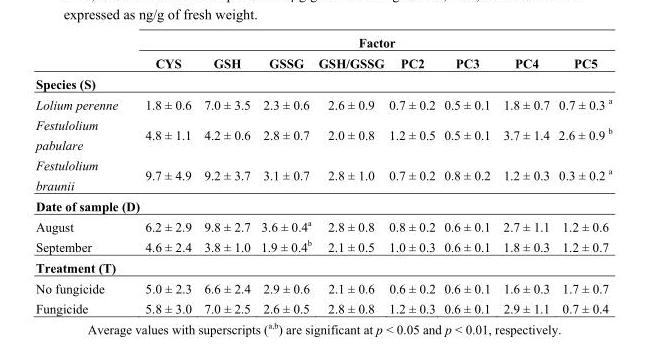table: (34, 34, 611, 315)
table column: (34, 34, 130, 315), (314, 34, 386, 315), (130, 34, 197, 315), (255, 34, 314, 315), (197, 34, 255, 315), (553, 34, 611, 315), (439, 34, 496, 315), (496, 34, 553, 315), (386, 34, 439, 315)
table column header: (34, 34, 611, 73)
table projected row header: (34, 256, 611, 277), (34, 73, 611, 93), (34, 195, 611, 215)
table row: (34, 154, 611, 195), (34, 114, 611, 154), (34, 52, 611, 73), (34, 93, 611, 114), (34, 235, 611, 256), (34, 256, 611, 277), (34, 277, 611, 298), (34, 73, 611, 93), (34, 195, 611, 215), (34, 215, 611, 235), (34, 34, 611, 52), (34, 298, 611, 315)
table spanning cell: (130, 34, 611, 52)
